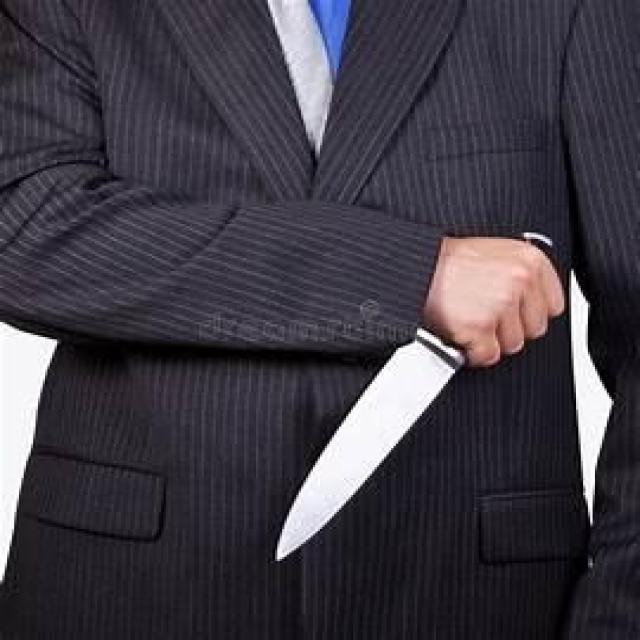Knife: (260, 227, 554, 574)
